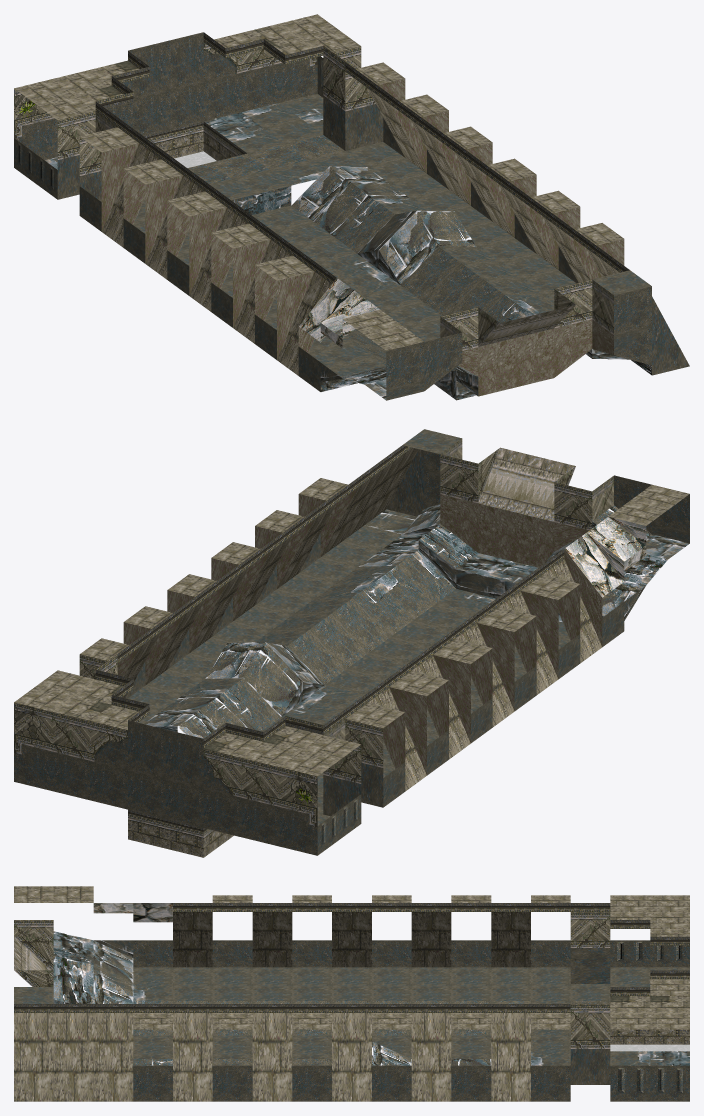
Rendered from room33.obj.
3 views of the same model, one above another, from view 1: azimuth 30°, elevation 25°; view 2: azimuth 150°, elevation 25°; view 3: azimuth 270°, elevation 25° (orthographic). The views are drawn at different scales.
Parts seen in each view (by area): view 1: 01-Caves.033; view 2: 01-Caves.033; view 3: 01-Caves.033.
Boxes of the visible parts, <box> form: 01-Caves.033: <box>14,14,689,400</box>; 01-Caves.033: <box>14,429,689,857</box>; 01-Caves.033: <box>14,886,689,1101</box>.
Bounding box in the file's own units: 80 × 30 × 170.
Materials: 1 (1 with a texture image).
